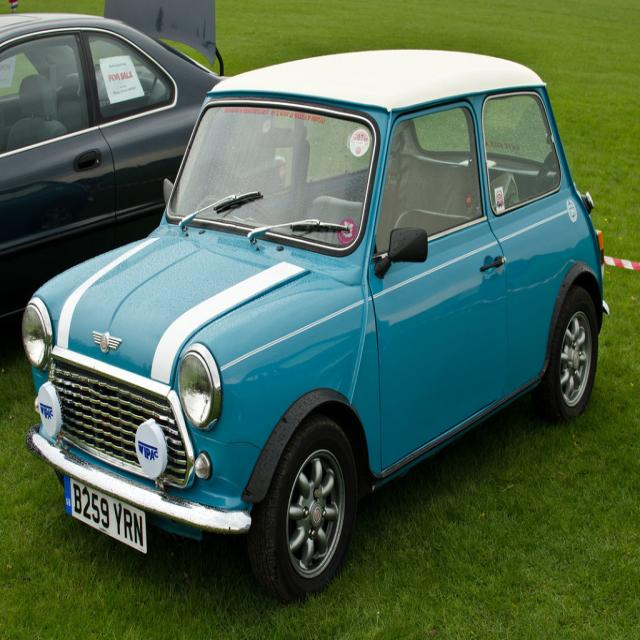car: (14, 43, 604, 605)
